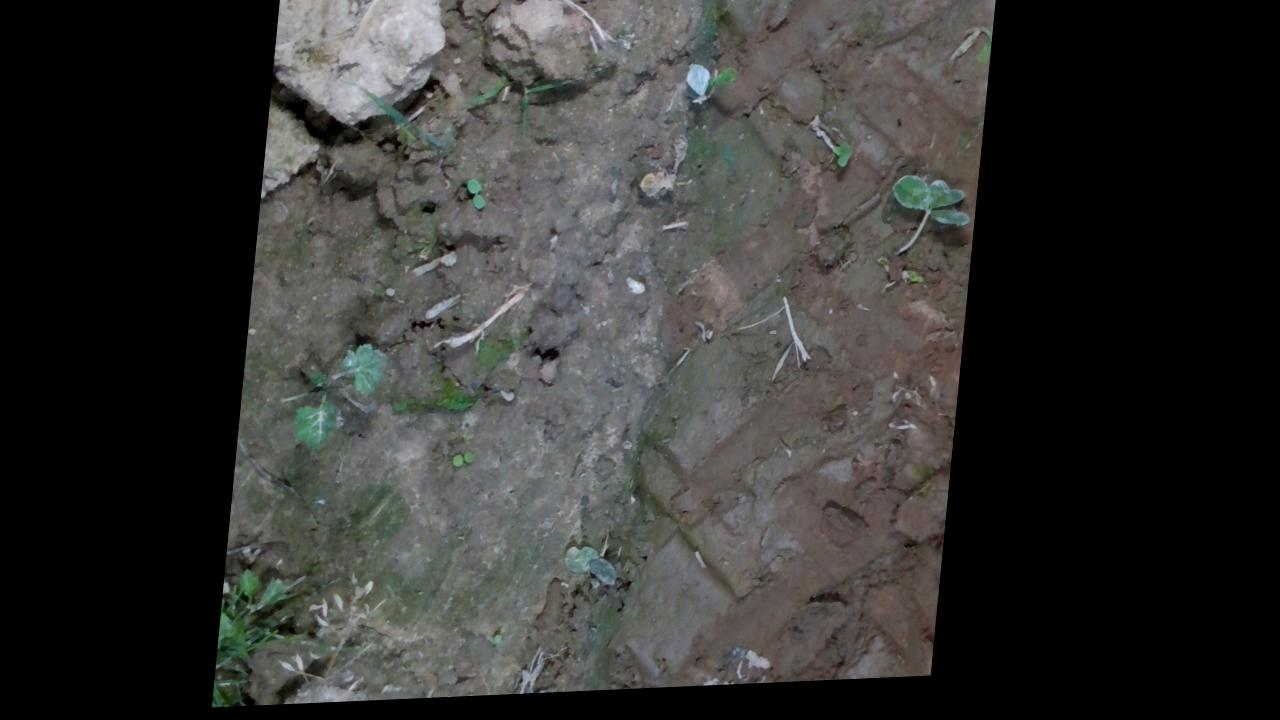weed: (468, 177, 494, 214), (460, 455, 486, 473)
